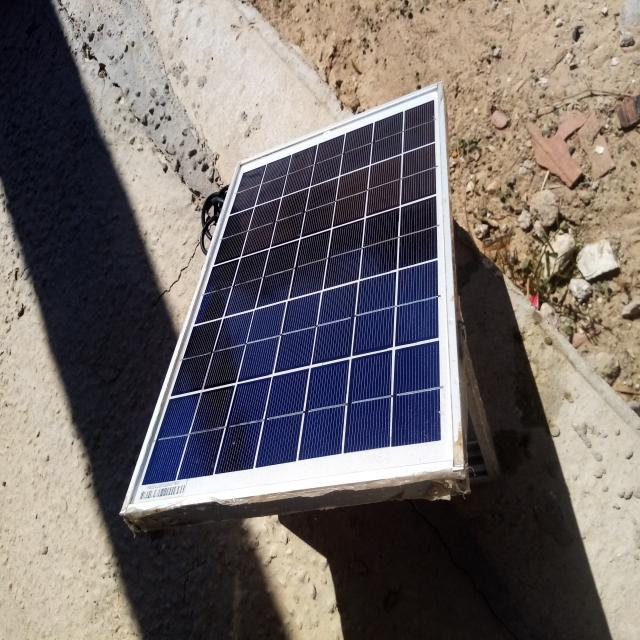no faulty: (123, 80, 463, 509)
